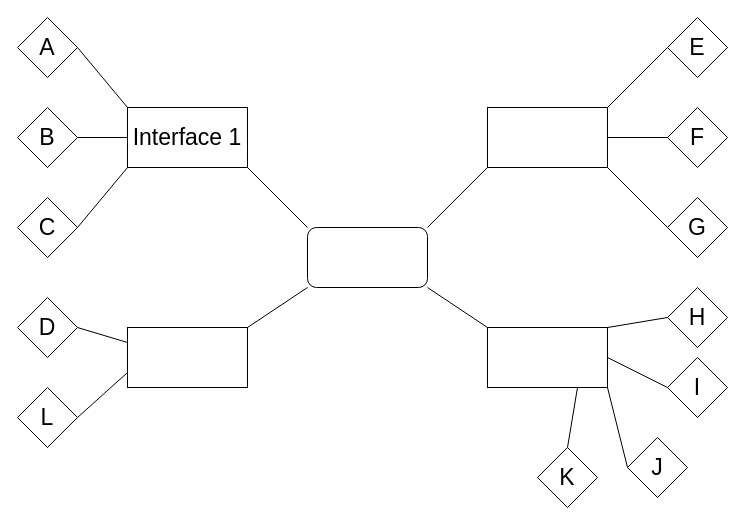
This 745x525 diagram has some shape labels left out. The box of each missing label's shape, as (x1, y1, x2, y2) in pixels:
Bridge: (306, 226, 428, 288)
Interface 2: (126, 326, 248, 388)
Interface 3: (486, 106, 608, 168)
Interface 4: (486, 326, 608, 388)
